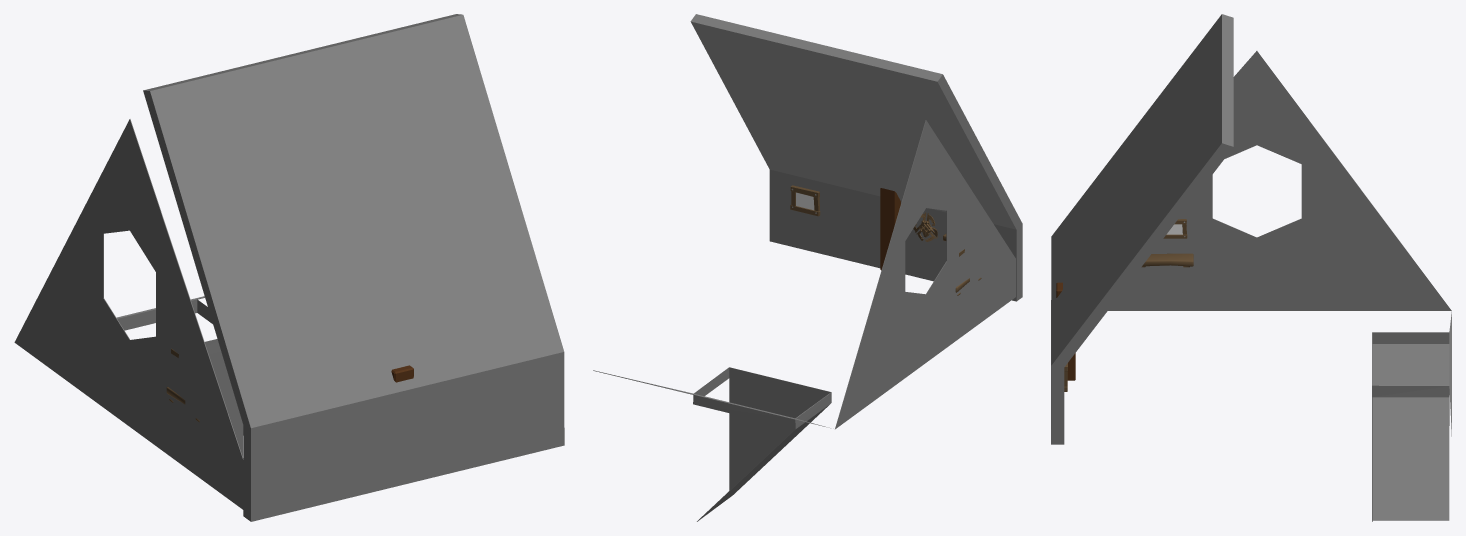
Rendered from Wall.fbx.
3 views of the same model, side by side, from view 1: azimuth 30°, elevation 25°; view 2: azimuth 150°, elevation 25°; view 3: azimuth 270°, elevation 25° (orthographic). The views are drawn at different scales.
Parts seen in each view (by area): view 1: Plane; view 2: Plane, Cube.021, Cube.018; view 3: Plane, Cube.041.
Part boxes in pixels (x1=…): Plane: x1=14, y1=14, x2=564, y2=521; Plane: x1=593, y1=14, x2=1022, y2=521; Cube.021: x1=880, y1=188, x2=900, y2=270; Cube.018: x1=790, y1=185, x2=820, y2=216; Plane: x1=1051, y1=14, x2=1451, y2=521; Cube.041: x1=1141, y1=253, x2=1193, y2=267.
Bounding box in the file's own units: 5.12 × 8 × 6.7.
